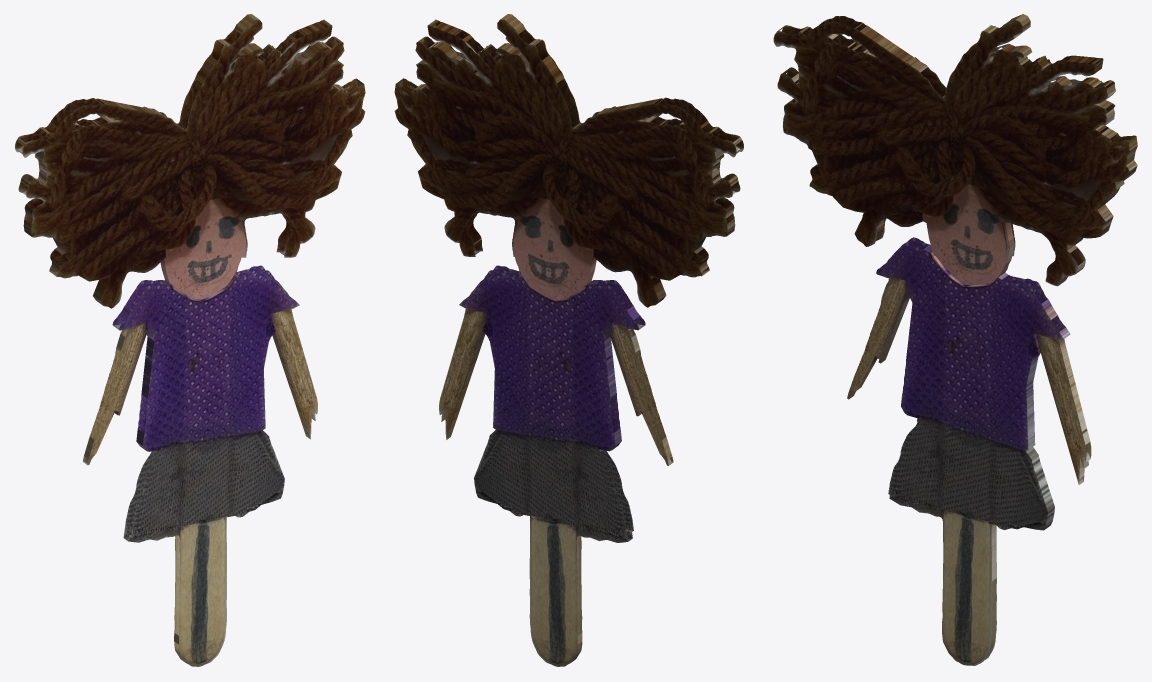
The model's file is personaje11.fbx.
The picture shows the model from 3 angles, left to right: view 1: azimuth 30°, elevation 25°; view 2: azimuth 150°, elevation 25°; view 3: azimuth 330°, elevation 25°; orthographic projection. The views are drawn at different scales.
Visible parts, largest first — view 1: Plane; view 2: Plane; view 3: Plane.
Boxes of the visible parts, <box> form: Plane: <box>15,14,365,666</box>; Plane: <box>394,14,743,666</box>; Plane: <box>773,14,1137,665</box>.
Size of the model in its own units: 169 by 299 by 6.42.
1 material, 1 textured.
